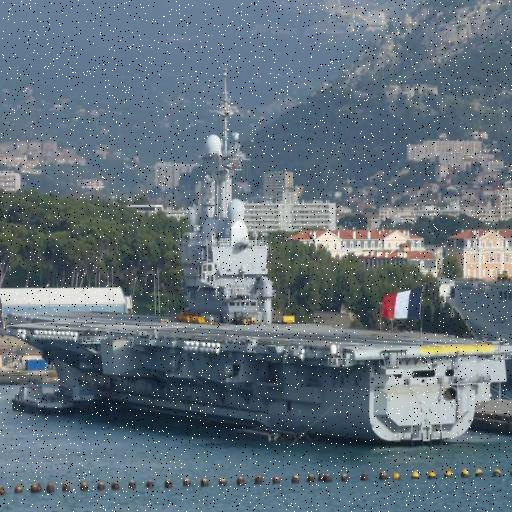Portanaves: (1, 59, 512, 453)
